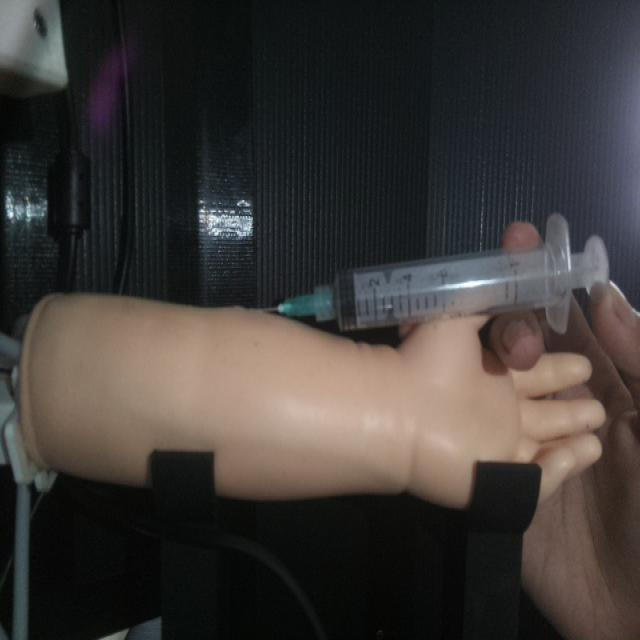Outside: (249, 210, 611, 344)
